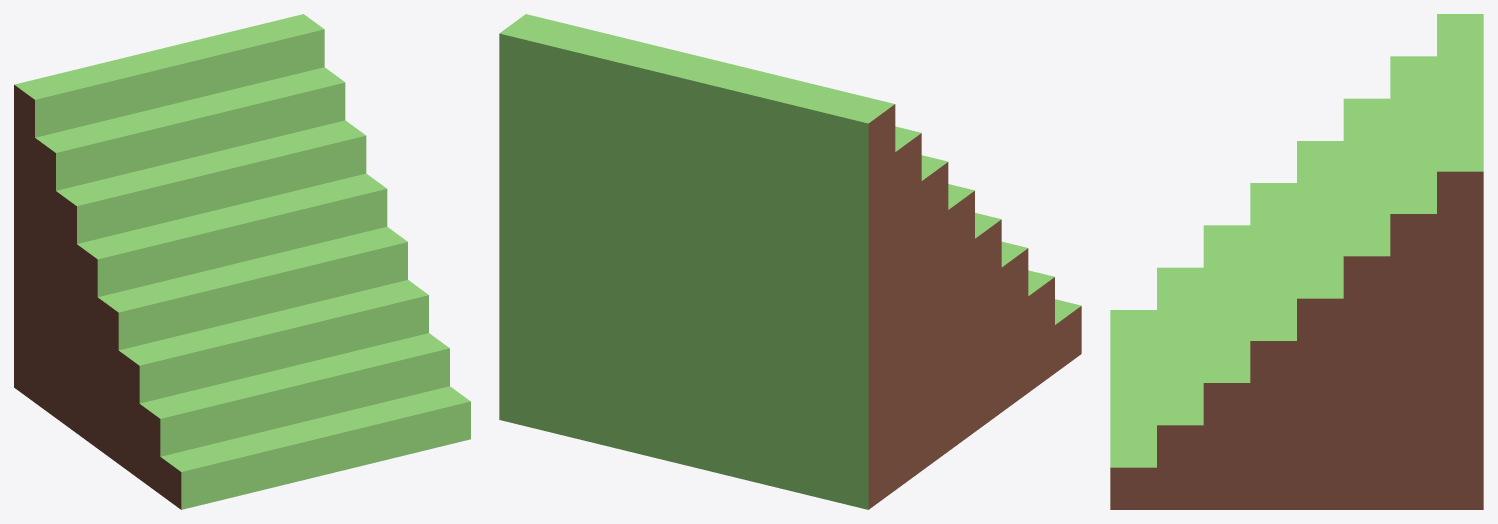
File: V1.Ground.Stairs.fbx
3 renders of one model, left to right at view 1: azimuth 30°, elevation 25°; view 2: azimuth 150°, elevation 25°; view 3: azimuth 270°, elevation 25°, orthographic. The views are drawn at different scales.
Visible parts, largest first — view 1: Cube; view 2: Cube; view 3: Cube.
Part boxes in pixels (<box>): Cube: <box>14,14,470,509</box>; Cube: <box>499,14,1081,509</box>; Cube: <box>1110,14,1483,509</box>.
Size of the model in its own units: 200 by 200 by 200.
